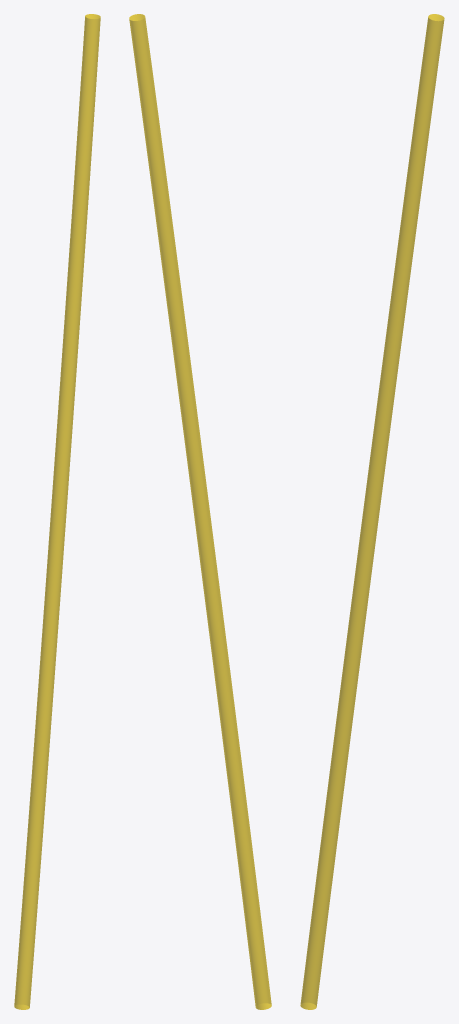
File: Event_402970704_track_11.fbx
The picture shows the model from 3 angles, left to right: view 1: azimuth 30°, elevation 25°; view 2: azimuth 150°, elevation 25°; view 3: azimuth 330°, elevation 25°; orthographic projection. The views are drawn at different scales.
Visible parts, largest first — view 1: Model; view 2: Model; view 3: Model.
Part boxes in pixels (x1=…): Model: x1=14, y1=14, x2=100, y2=1009; Model: x1=129, y1=14, x2=271, y2=1009; Model: x1=300, y1=14, x2=444, y2=1009.
Bounding box in the file's own units: 0.324 × 2.68 × 0.1703.
